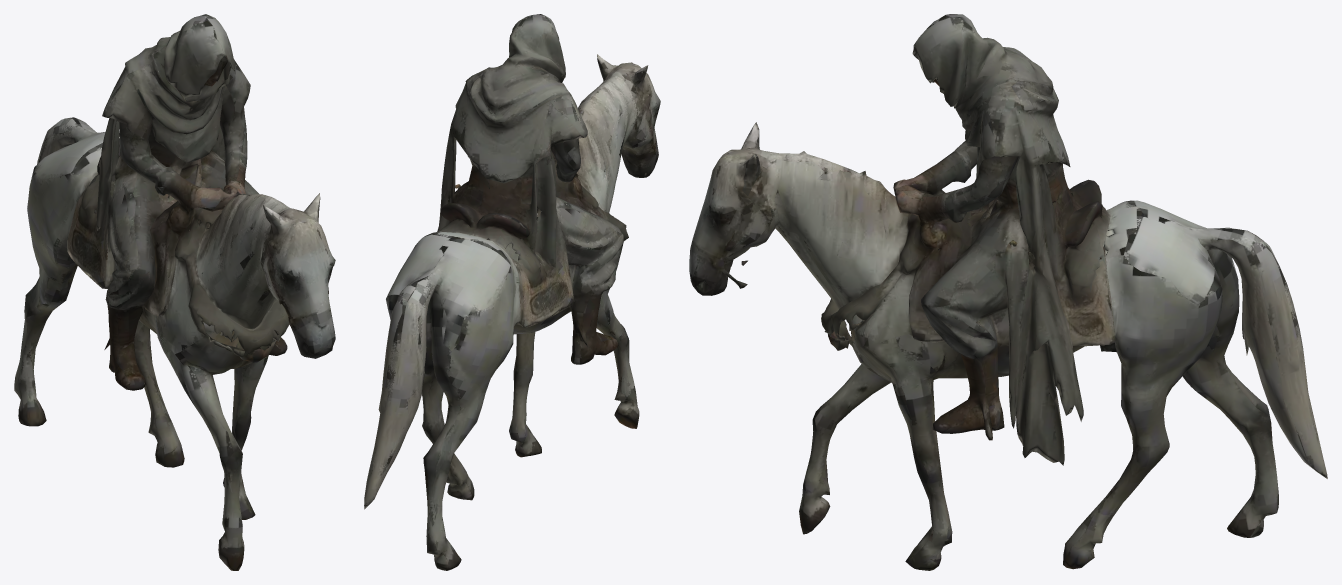
The model's file is horsePale.glb.
3 renders of one model, left to right at view 1: azimuth 30°, elevation 25°; view 2: azimuth 150°, elevation 25°; view 3: azimuth 270°, elevation 25°, orthographic. The views are drawn at different scales.
Visible parts, largest first — view 1: geometry_0; view 2: geometry_0; view 3: geometry_0.
Boxes of the visible parts, x1,y1,x2,y2 form: geometry_0: (14,14,335,570); geometry_0: (364,14,660,570); geometry_0: (689,14,1327,570).
Size of the model in its own units: 0.3439 by 0.9075 by 0.9743.
1 material, 1 textured.
